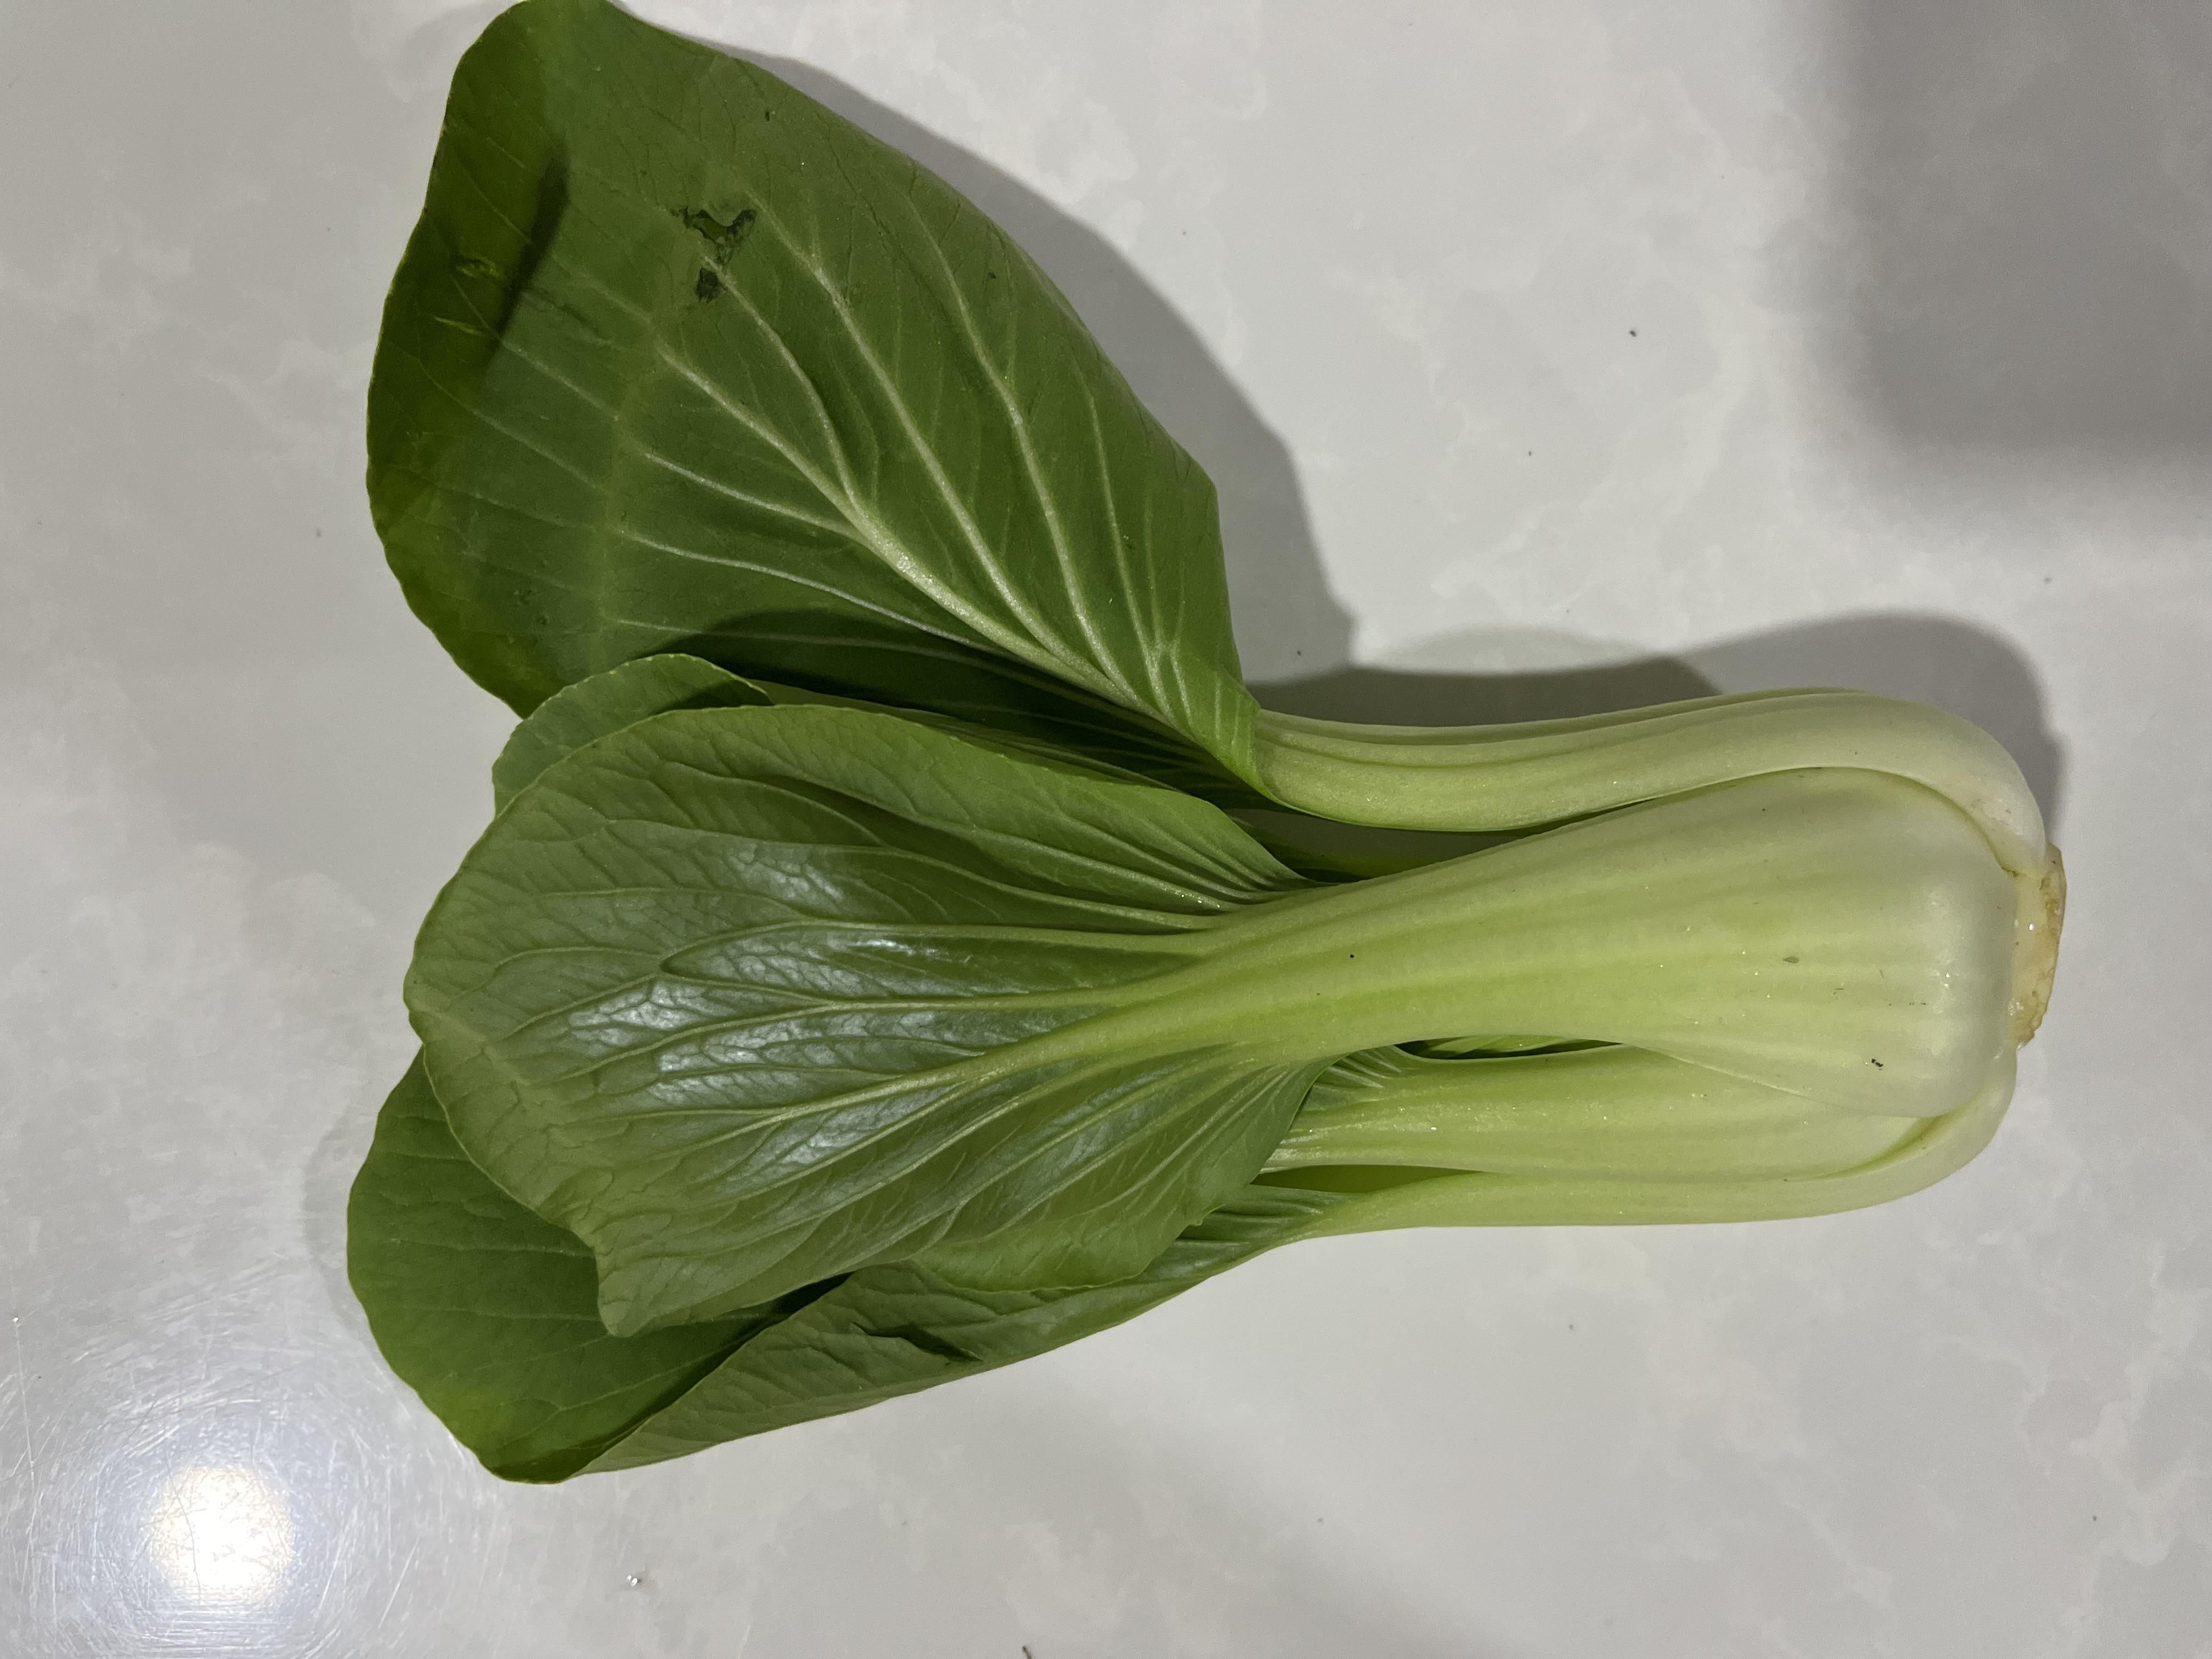Healthy-Pechay: (247, 44, 1947, 1443)
